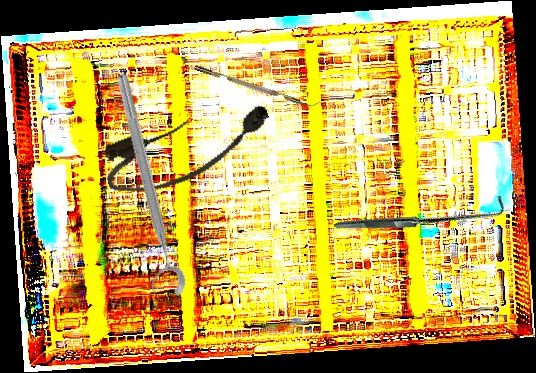Cannula: (96, 93, 281, 206)
Chopper: (193, 58, 322, 113)
Fixation Ring: (96, 71, 190, 303)
Hook Surgical: (332, 126, 510, 302)
